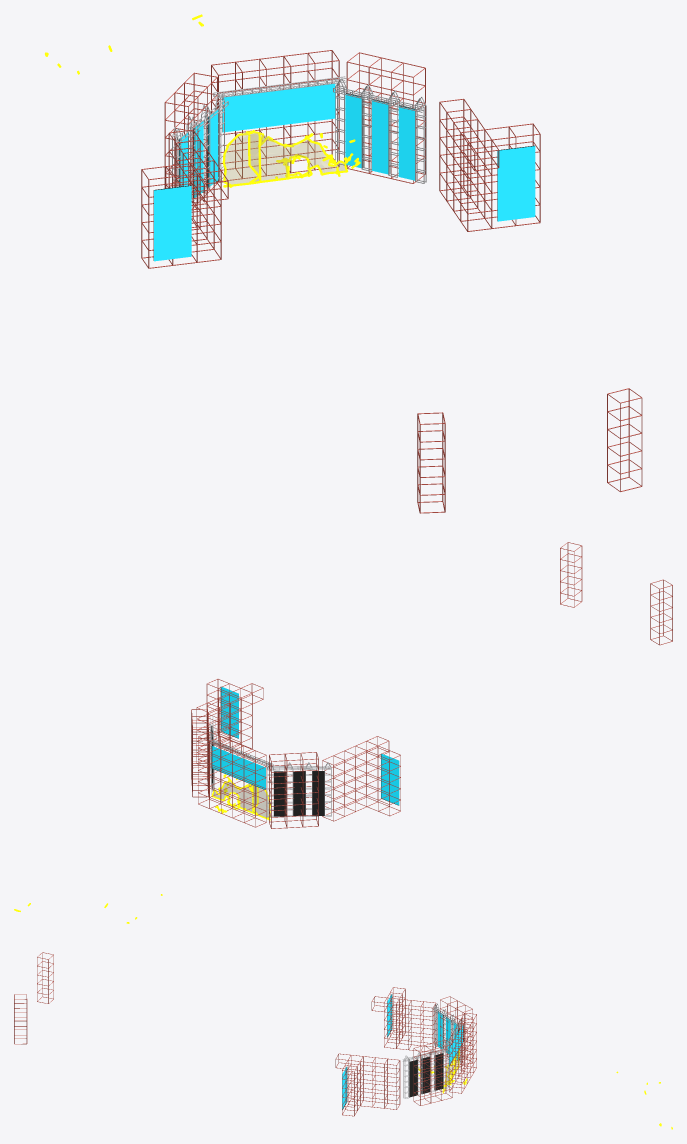
File: FNT2026_AR_layout_op04_1a1.glb
3 renders of one model, top to bottom at view 1: azimuth 30°, elevation 25°; view 2: azimuth 150°, elevation 25°; view 3: azimuth 270°, elevation 25°, orthographic. The views are drawn at different scales.
Parts seen in each view (by area): view 1: pantalla 8 006.001, Guitarra_escenario, pantalla 8 4.001, pantalla 8 005.001, Guitarra_contorno.001, pantalla OP04 DER 2.001, pantalla OP04 DER 3.001, pantalla OP04 DER 1.001, truss OP04 fondo arriba.001, pantalla OP04 IZQ 1.001; view 2: pantalla 8 006.001, pantalla 8 4.001, pantalla 8 005.001, Guitarra_escenario, Guitarra_contorno.001, pantalla OP04 IZQ 2.001, pantalla OP04 IZQ 1.001, pantalla OP04 IZQ 3.001; view 3: pantalla OP04 DER 1.001, pantalla OP04 DER 2.001, pantalla OP04 DER 3.001, Guitarra_contorno.001.
Boxes of the visible parts, box(x1,y1,x2,y2) form: pantalla 8 006.001: box(222, 82, 335, 132); Guitarra_escenario: box(225, 132, 345, 184); pantalla 8 4.001: box(153, 185, 191, 261); pantalla 8 005.001: box(497, 145, 535, 221); Guitarra_contorno.001: box(45, 14, 360, 187); pantalla OP04 DER 2.001: box(372, 99, 389, 174); pantalla OP04 DER 3.001: box(398, 105, 416, 180); pantalla OP04 DER 1.001: box(345, 93, 363, 168); truss OP04 fondo arriba.001: box(213, 76, 346, 98); pantalla OP04 IZQ 1.001: box(207, 110, 218, 187); pantalla 8 006.001: box(211, 746, 265, 789); pantalla 8 4.001: box(381, 753, 399, 805); pantalla 8 005.001: box(220, 686, 238, 738); Guitarra_escenario: box(213, 782, 268, 817); Guitarra_contorno.001: box(14, 774, 270, 923); pantalla OP04 IZQ 2.001: box(293, 771, 305, 816); pantalla OP04 IZQ 1.001: box(274, 771, 286, 816); pantalla OP04 IZQ 3.001: box(312, 771, 324, 816); pantalla OP04 DER 1.001: box(434, 1053, 443, 1090); pantalla OP04 DER 2.001: box(421, 1056, 430, 1093); pantalla OP04 DER 3.001: box(409, 1060, 417, 1097); Guitarra_contorno.001: box(418, 1049, 672, 1129).
Size of the model in its own units: 50.25 by 17.49 by 135.
